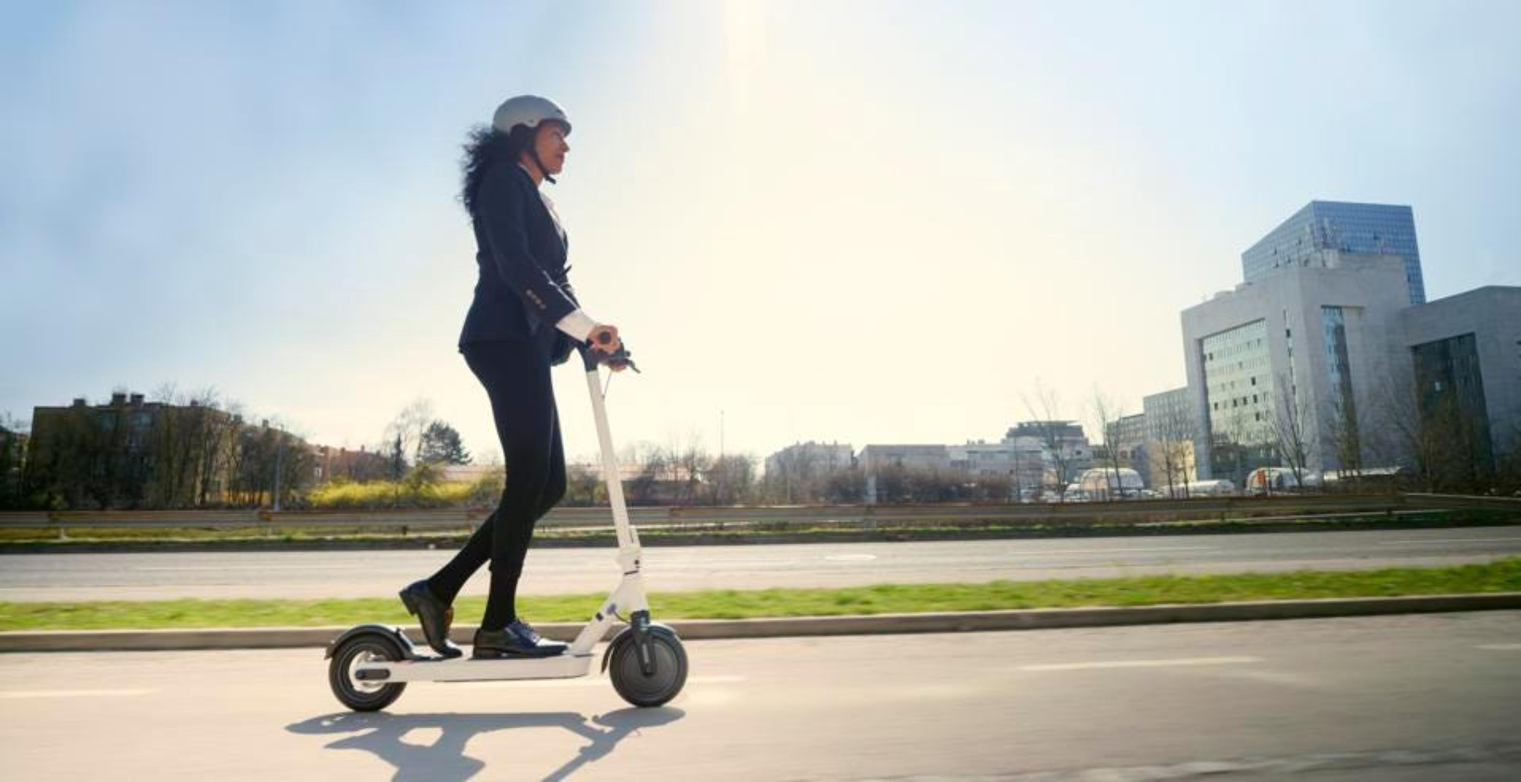helmet: (462, 95, 577, 185)
human: (401, 101, 614, 651)
kickboard: (321, 624, 692, 713)
